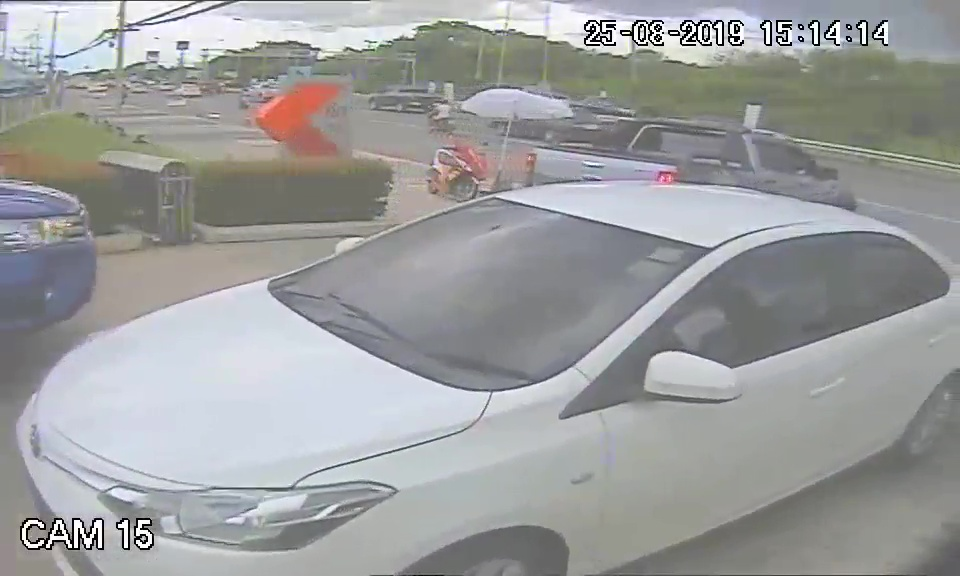sedan: (14, 188, 757, 576)
